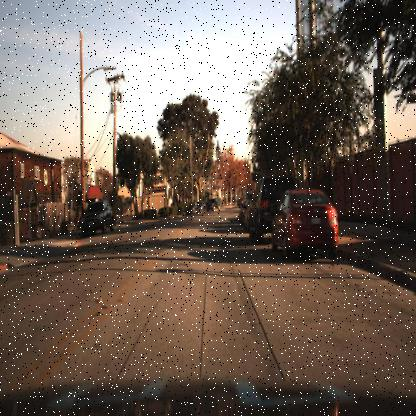car: (268, 173, 345, 269), (246, 172, 282, 244), (71, 196, 122, 240), (249, 172, 273, 252)
